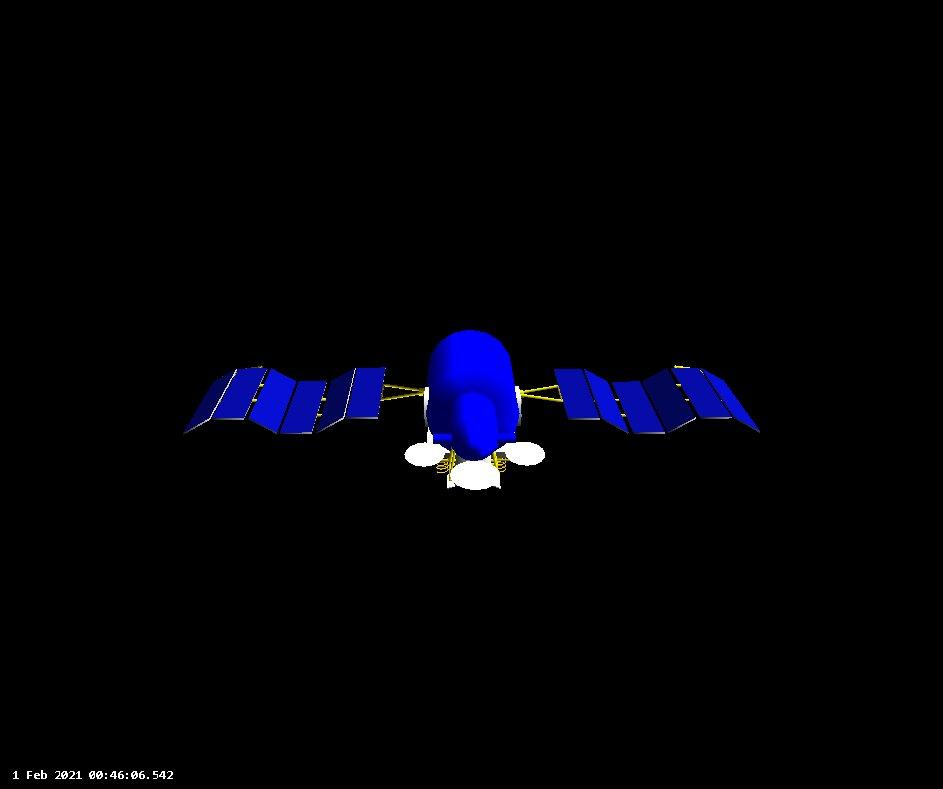antenna: (449, 458, 502, 490), (403, 440, 449, 469), (509, 440, 549, 467)
body: (419, 326, 524, 462)
solar: (177, 361, 390, 441), (553, 363, 765, 439)
